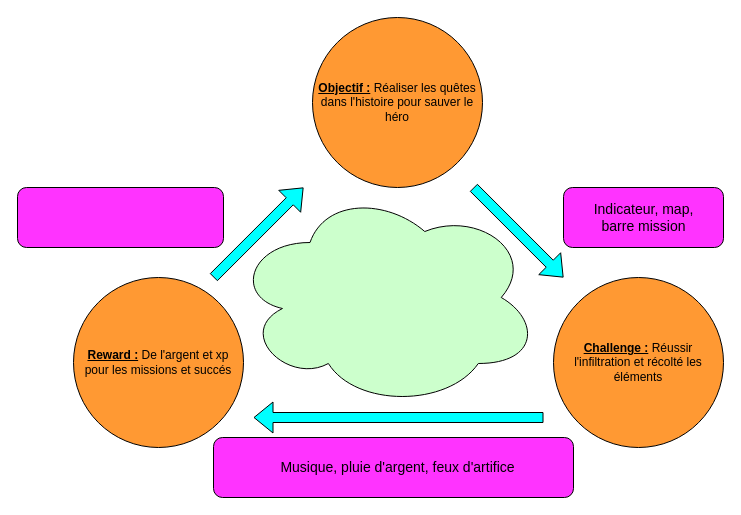
This 741x515 diagram has some shape labels left out. Each missing label, with the box of its shape:
Avancement de l'histoire, déblocage compétences: (16, 186, 224, 248)
Contexte : Nitou vs Vinkings: (232, 186, 540, 408)
